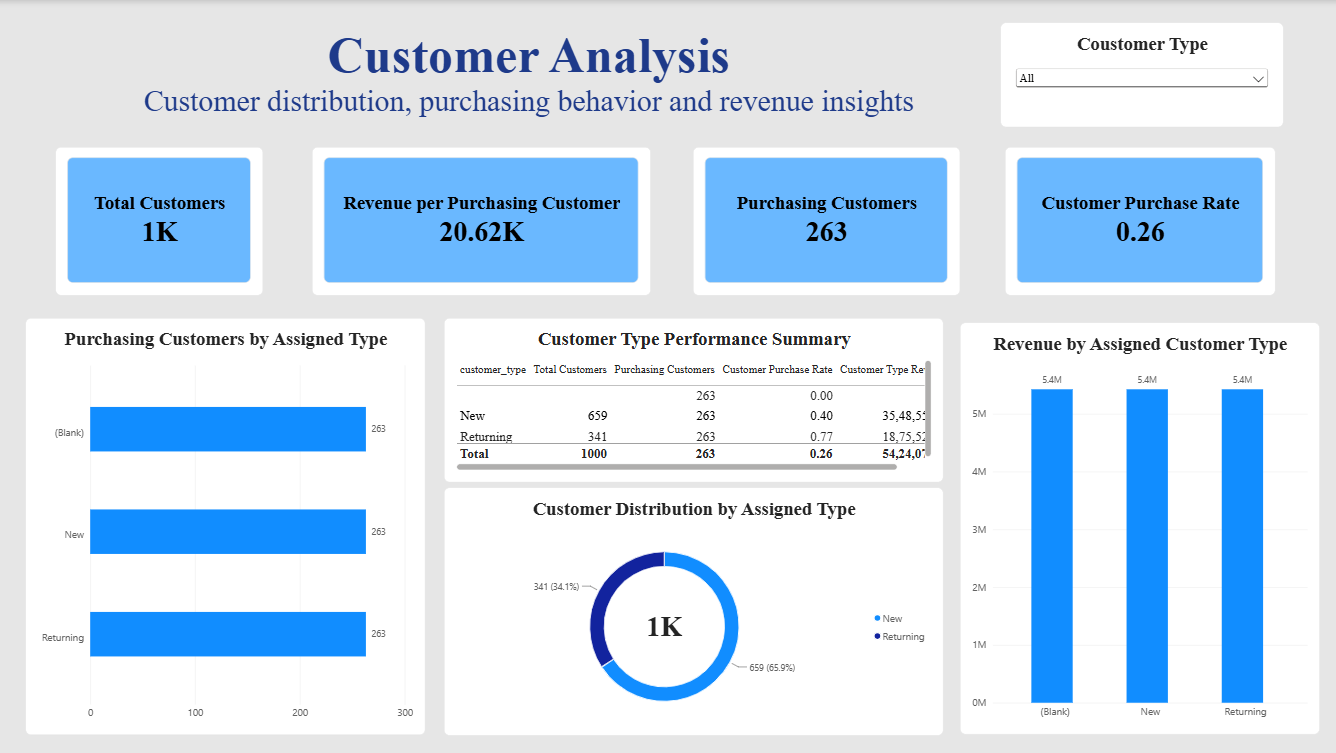

This screenshot's page, from the dashboard's own definition file:
{"tool":"powerbi","page":{"name":"Customer Analysis","canvas":[1920,1080],"ordinal":2},"visuals":[{"type":"textbox","box":[0,0,1515,280],"z":0},{"type":"cardVisual","fields":{"Data":["customers_cleaned.Total Customers"]},"box":[80,210,297.5,212.5],"z":1000},{"type":"cardVisual","fields":{"Data":["customers_cleaned.Purchasing Customers"]},"box":[992.5,210,382.5,212.5],"z":2000},{"type":"cardVisual","fields":{"Data":["customers_cleaned.Customer Purchase Rate"]},"box":[1440,210,387.5,212.5],"z":3000},{"type":"cardVisual","fields":{"Data":["customers_cleaned.Revenue per Purchasing Customer"]},"box":[447.5,210,485,212.5],"z":4000},{"type":"donutChart","title":"Customer Distribution by Assigned Type","fields":{"Category":["customers_cleaned.customer_type"],"Y":["CountNonNull(customers_cleaned.customer_id)"]},"box":[635,697.5,715,355],"z":5000},{"type":"clusteredColumnChart","title":"Revenue by Assigned Customer Type","fields":{"Category":["customers_cleaned.customer_type"],"Y":["customers_cleaned.Total Revenue"]},"box":[1375,462.5,515,590],"z":6000},{"type":"clusteredBarChart","title":"Purchasing Customers by Assigned Type","fields":{"Category":["customers_cleaned.customer_type"],"Y":["customers_cleaned.Purchasing Customers"]},"box":[37.5,455,572.5,597.5],"z":7000},{"type":"tableEx","title":"Customer Type Performance Summary","fields":{"Values":["customers_cleaned.customer_type","customers_cleaned.Total Customers","customers_cleaned.Purchasing Customers","customers_cleaned.Customer Purchase Rate","customers_cleaned.Customer Type Revenue"]},"box":[635,455,715,235],"z":8000},{"type":"slicer","title":"Coustomer Type","fields":{"Values":["customers_cleaned.customer_type"]},"box":[1432.5,32.5,405,150],"z":9000}]}

Visuals, with their boxes in screenshot pixels (x1, y1, x2, y2), scaled from the page's 1920x1080 canvas onto the 1336x753 screenshot:
textbox: l=0, t=0, r=1054, b=195
cardVisual - customers_cleaned.Total Customers: l=56, t=146, r=263, b=295
cardVisual - customers_cleaned.Purchasing Customers: l=691, t=146, r=957, b=295
cardVisual - customers_cleaned.Customer Purchase Rate: l=1002, t=146, r=1272, b=295
cardVisual - customers_cleaned.Revenue per Purchasing Customer: l=311, t=146, r=649, b=295
"Customer Distribution by Assigned Type" donutChart: l=442, t=486, r=939, b=734
"Revenue by Assigned Customer Type" clusteredColumnChart: l=957, t=322, r=1315, b=734
"Purchasing Customers by Assigned Type" clusteredBarChart: l=26, t=317, r=424, b=734
"Customer Type Performance Summary" tableEx: l=442, t=317, r=939, b=481
"Coustomer Type" slicer: l=997, t=23, r=1279, b=127
